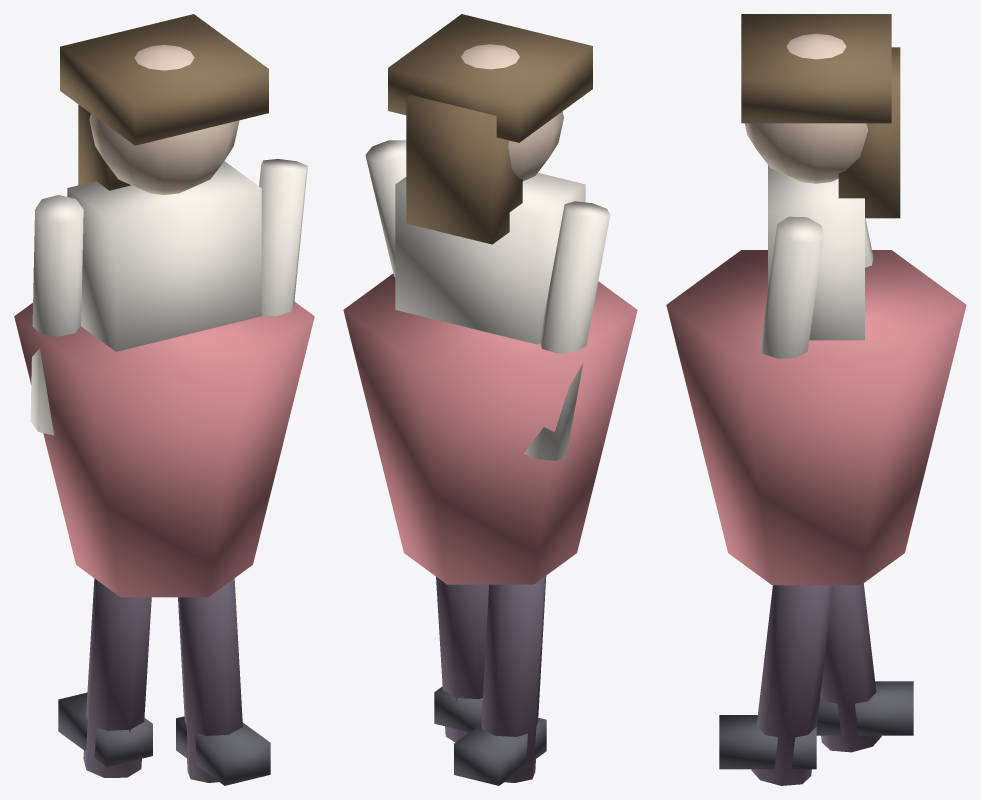
Rendered from pedestrian_woman.glb.
The picture shows the model from 3 angles, left to right: view 1: azimuth 30°, elevation 25°; view 2: azimuth 150°, elevation 25°; view 3: azimuth 270°, elevation 25°; orthographic projection. The views are drawn at different scales.
Parts seen in each view (by area): view 1: PedestrianWoman; view 2: PedestrianWoman; view 3: PedestrianWoman.
Part boxes in pixels (x1,y1,x2,y2): PedestrianWoman: (14,14,314,785); PedestrianWoman: (343,14,637,785); PedestrianWoman: (666,14,966,785).
Bounding box in the file's own units: 0.664 × 1.8 × 0.68.
